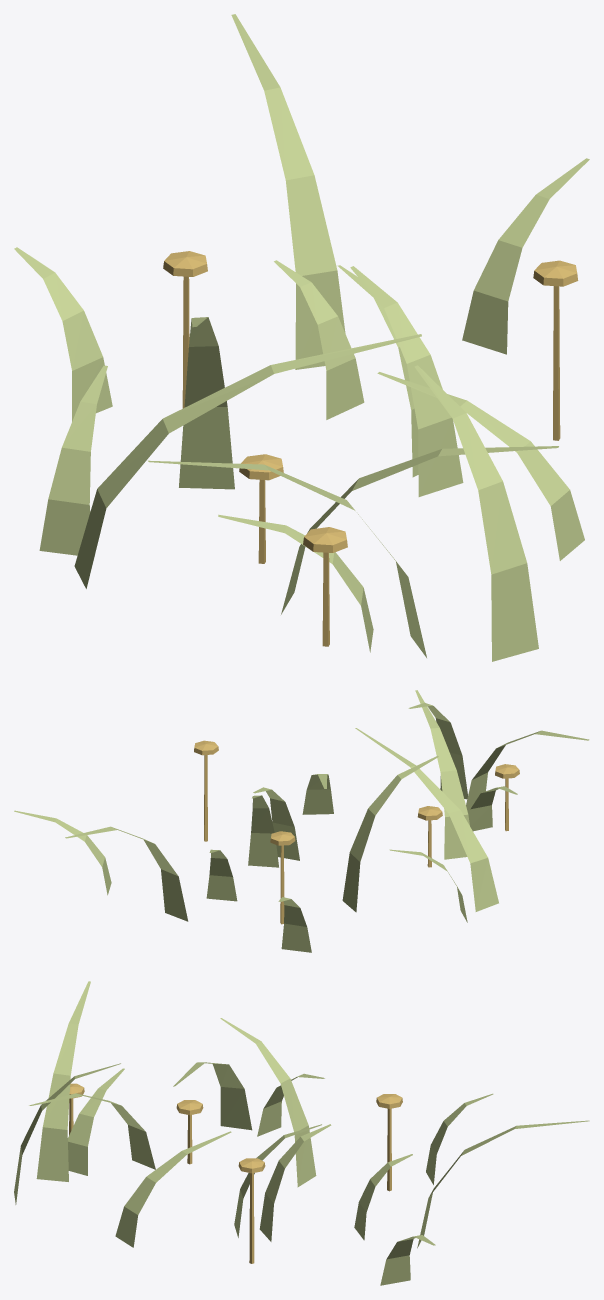
The model's file is dense-temperate-forest-flora-primrose-clump-41bb3f4f__28397.glb.
The picture shows the model from 3 angles, top to bottom: view 1: azimuth 30°, elevation 25°; view 2: azimuth 150°, elevation 25°; view 3: azimuth 270°, elevation 25°; orthographic projection. The views are drawn at different scales.
Parts seen in each view (by area): view 1: primrose-clump; view 2: primrose-clump; view 3: primrose-clump.
Part boxes in pixels (x1,y1,x2,y2): primrose-clump: [14, 14, 589, 661]; primrose-clump: [14, 690, 589, 952]; primrose-clump: [14, 981, 589, 1285].
Size of the model in its own units: 0.8003 by 0.2462 by 0.9236.
